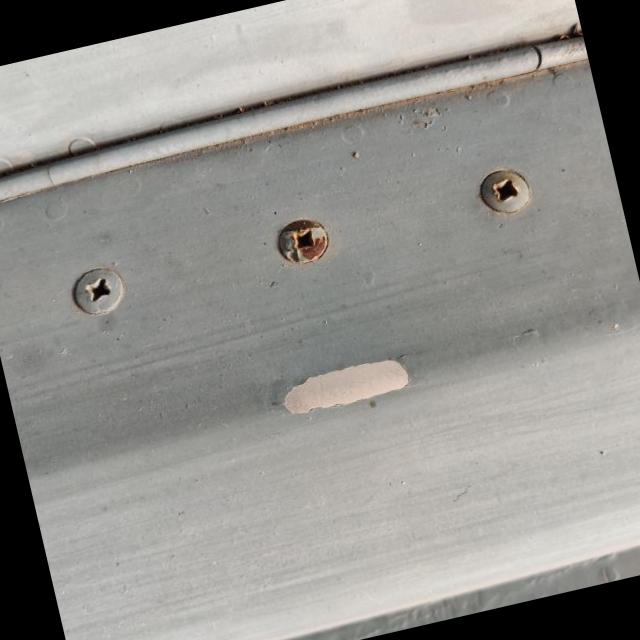Paint-off: (276, 359, 412, 421)
